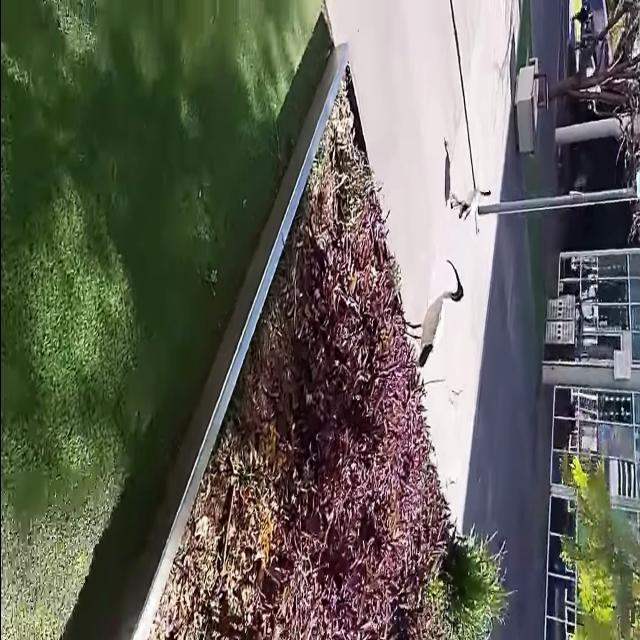Birds-Ibis: (396, 252, 467, 378), (446, 180, 494, 228)
